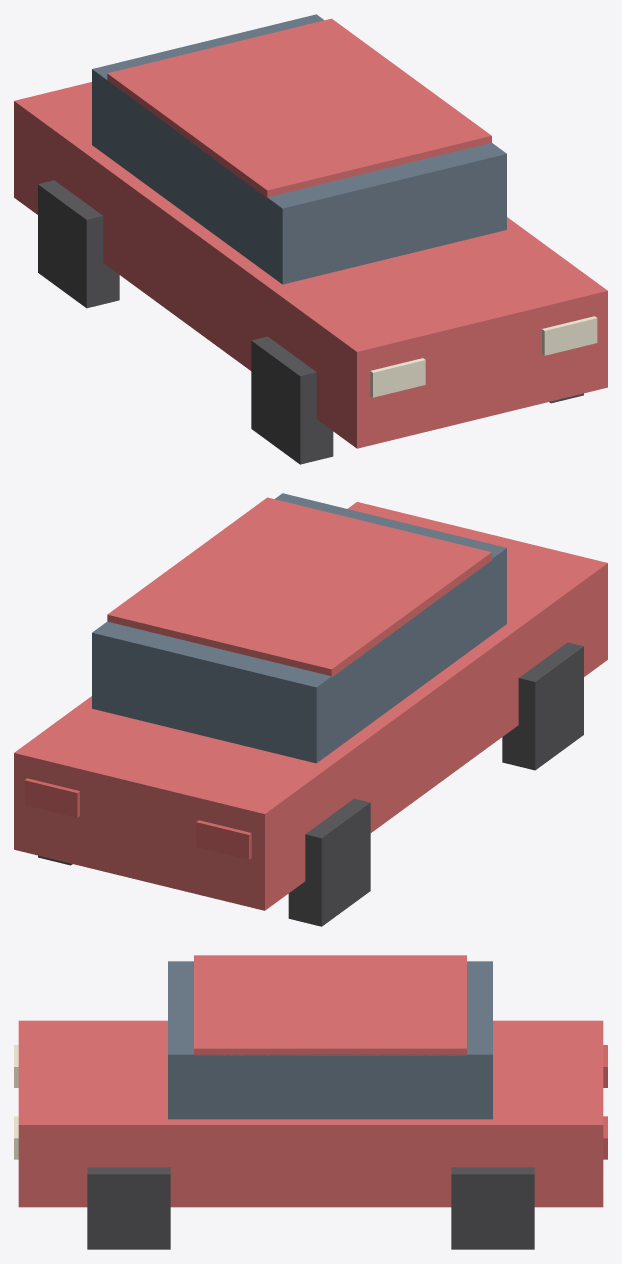
File: car-red.glb
3 views of the same model, one above another, from view 1: azimuth 30°, elevation 25°; view 2: azimuth 150°, elevation 25°; view 3: azimuth 270°, elevation 25° (orthographic). The views are drawn at different scales.
Size of the model in its own units: 2.15 by 1.6 by 4.57.
